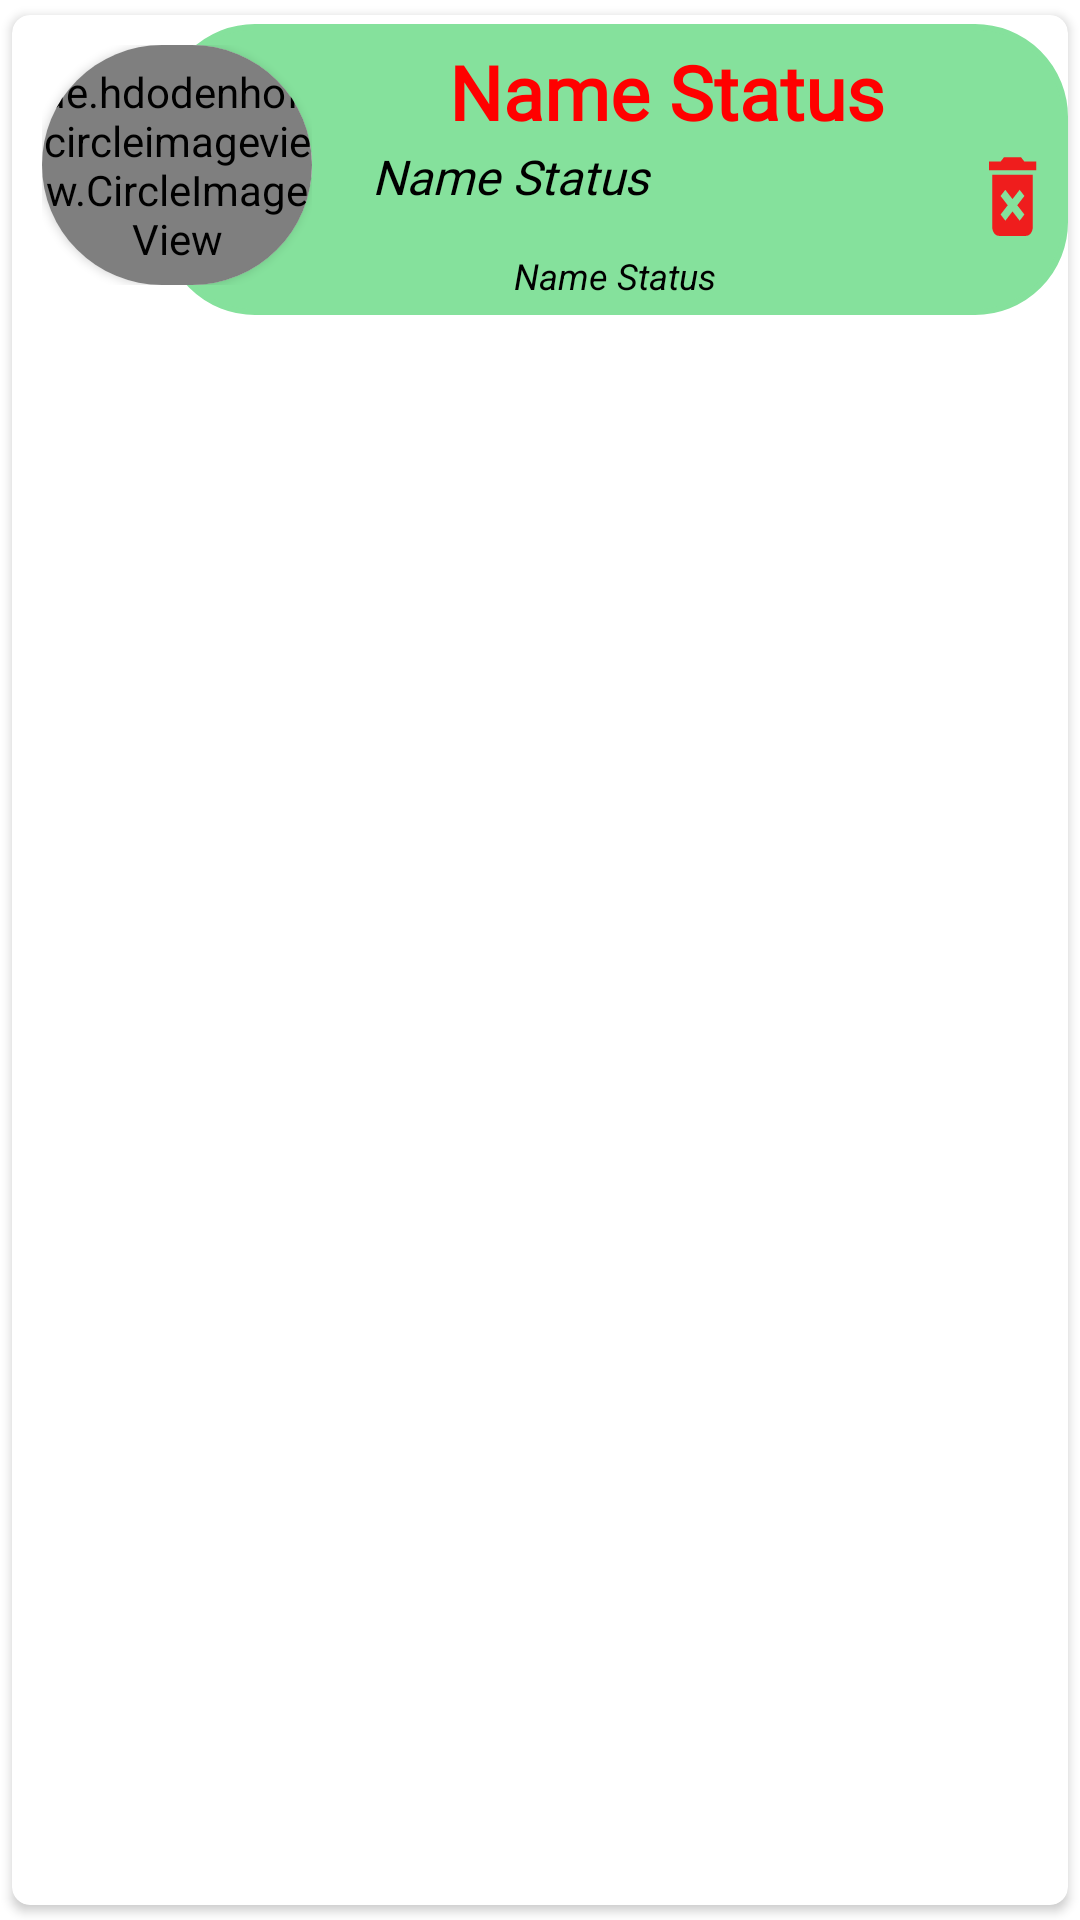

Icons on this 1080px x 1920px Android screen, each with its box as (x1, y1, x2, y2):
delete: (989, 157, 1037, 236)
